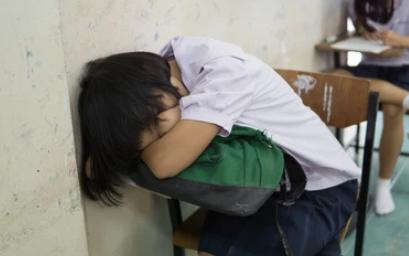sleep: (77, 30, 289, 189)
